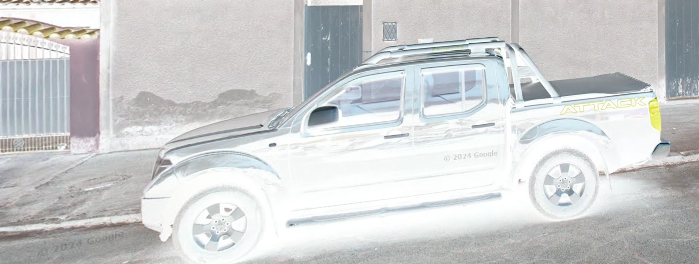car: (142, 49, 671, 264)
